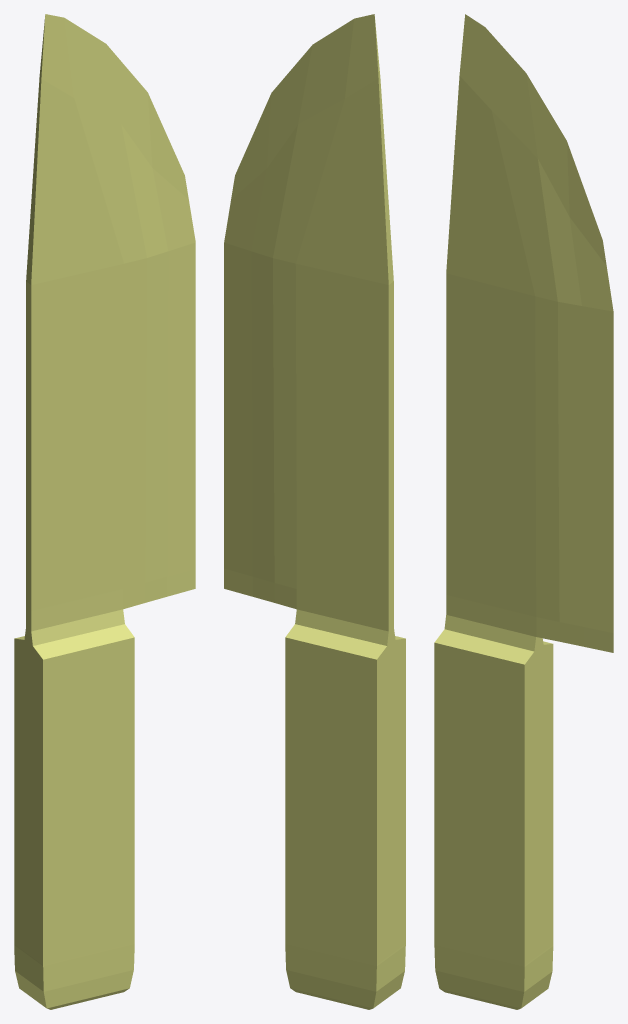
The model's file is knife-yatai1.fbx.
The picture shows the model from 3 angles, left to right: view 1: azimuth 30°, elevation 25°; view 2: azimuth 150°, elevation 25°; view 3: azimuth 330°, elevation 25°; orthographic projection.
Parts seen in each view (by area): view 1: KnifeLarge; view 2: KnifeLarge; view 3: KnifeLarge.
Boxes of the visible parts, x1,y1,x2,y2 form: KnifeLarge: [14, 14, 195, 1009]; KnifeLarge: [224, 14, 405, 1009]; KnifeLarge: [434, 14, 613, 1009].
Size of the model in its own units: 25.48 by 143 by 7.64.
